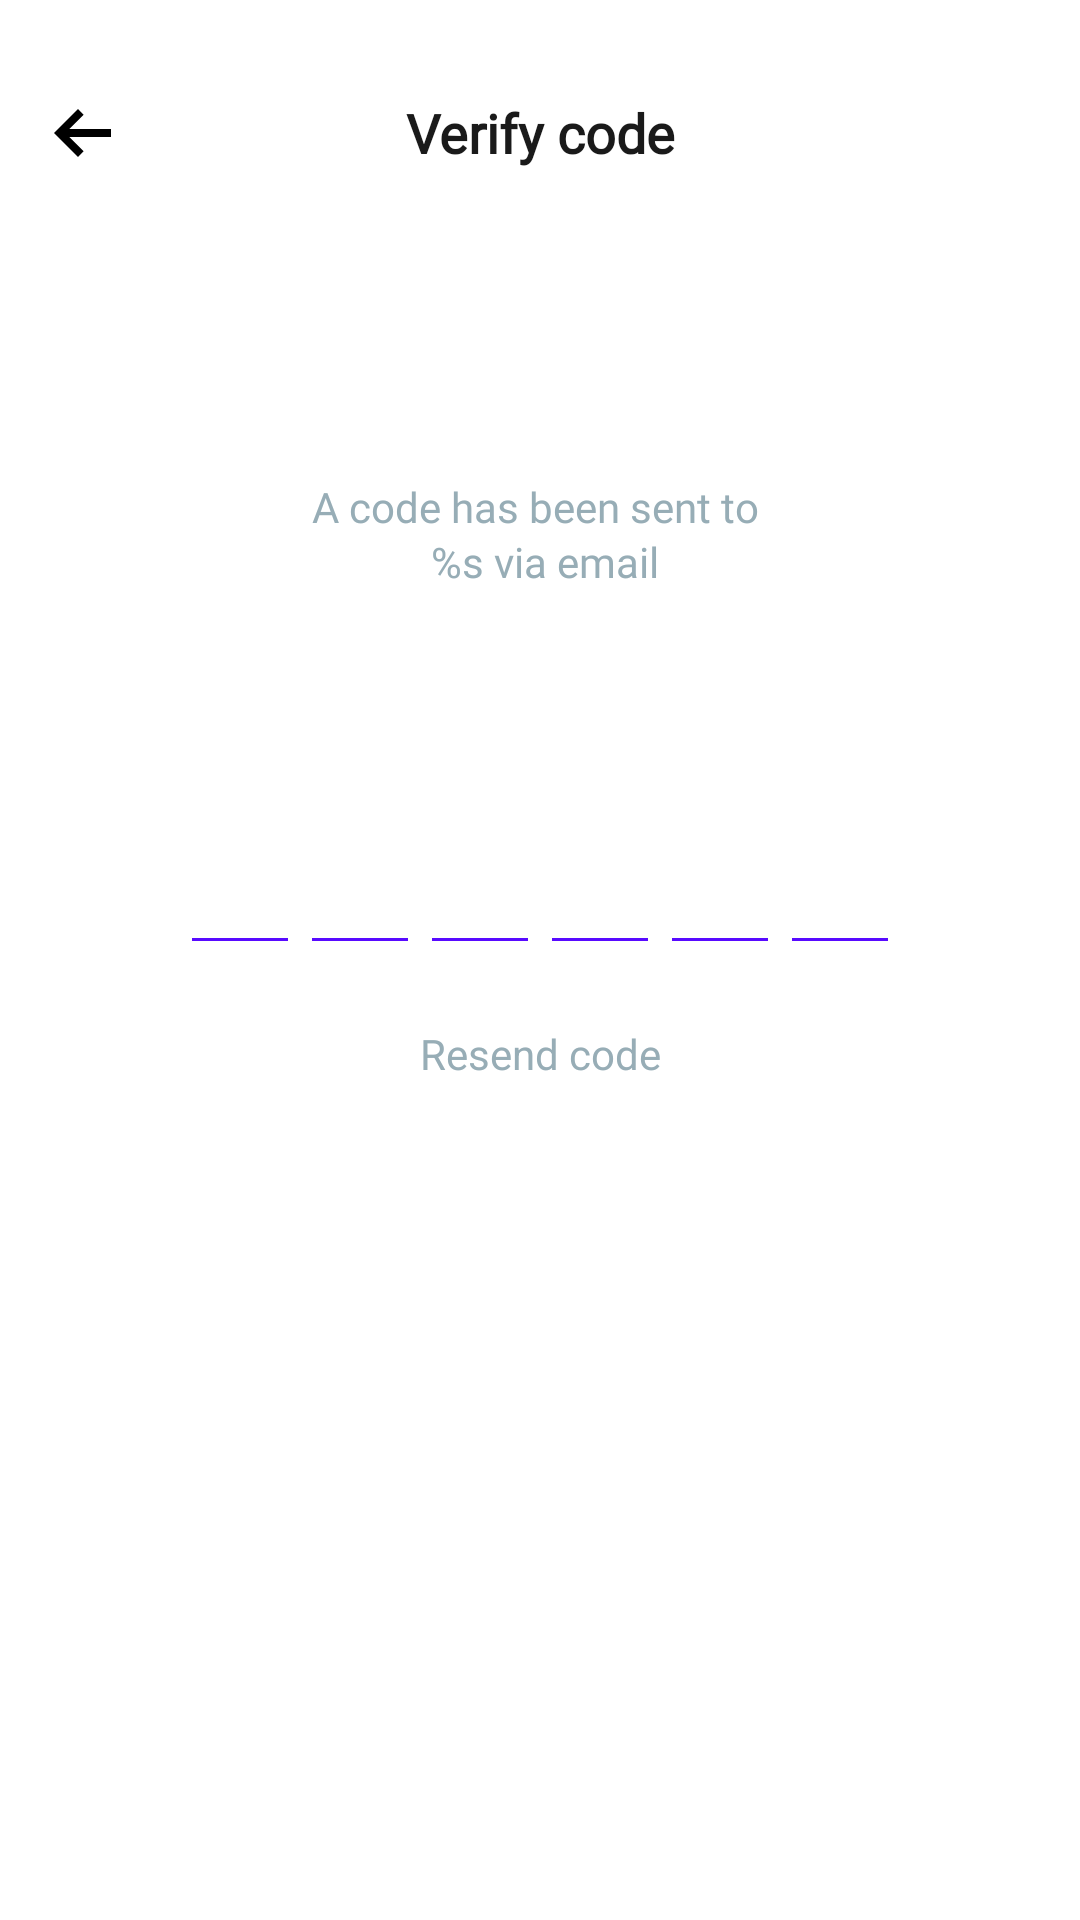

Icon click points for this 1080px×1920px phone screenshot, format (x,y):
back: (82,133)
